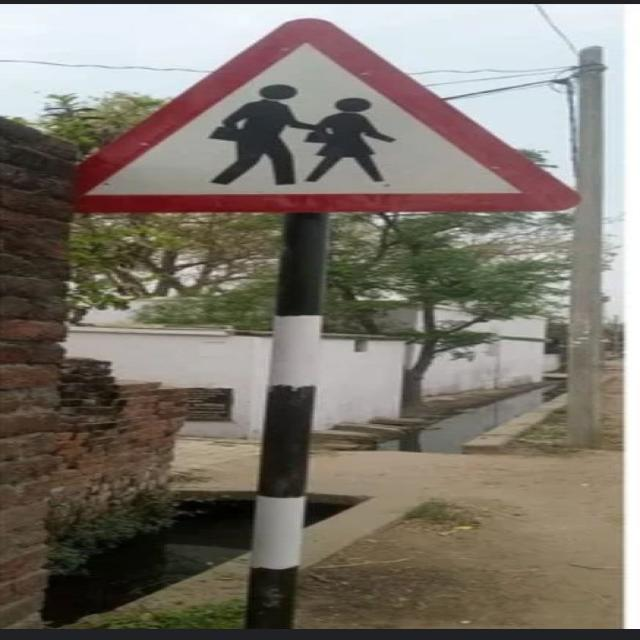school ahead: (69, 20, 580, 217)
